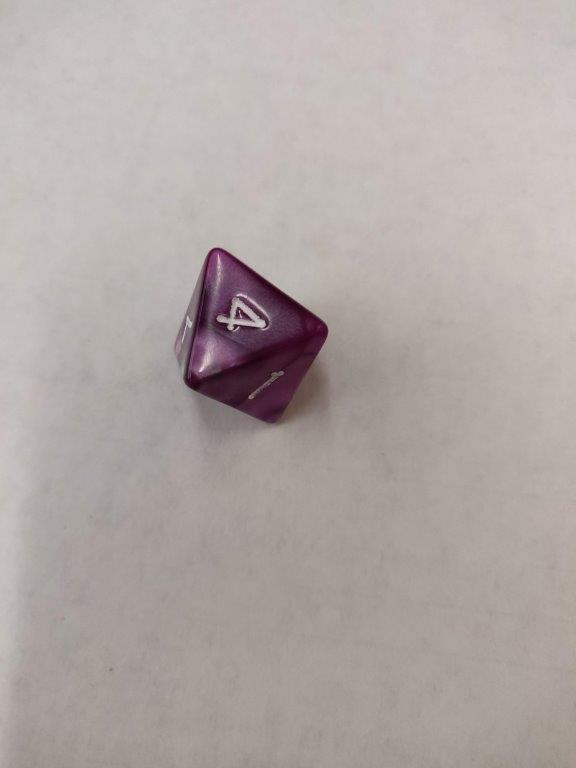d8-4: (172, 247, 331, 429)
